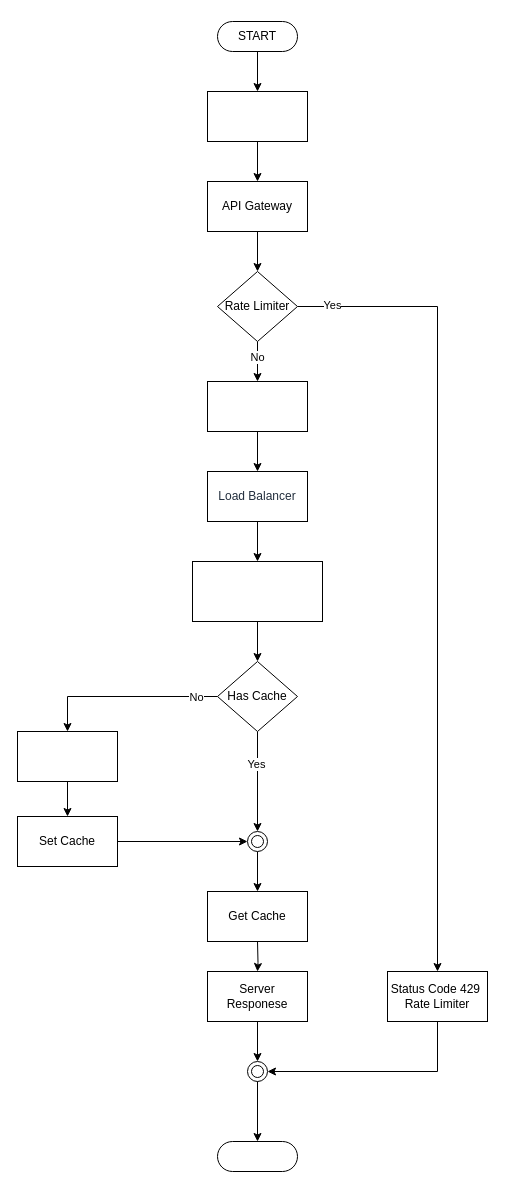
The diagram is 505 pixels wide and 1192 high, and some of its shapes have lost their labels. The centre of each missing label's shape, as x and y in pixels:
"Call External API" belongs at point 67,756.
"Check User Service" belongs at point 257,591.
"Client Request" belongs at point 257,116.
"END" belongs at point 257,1156.
"Queue" belongs at point 257,406.
